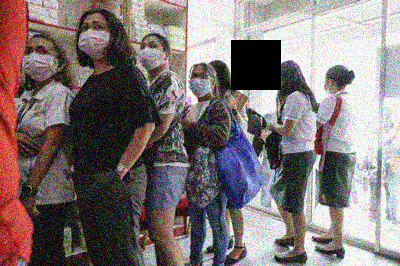with_mask: (77, 20, 112, 61), (23, 43, 59, 82), (139, 41, 163, 71), (189, 71, 212, 98), (323, 77, 335, 97)
